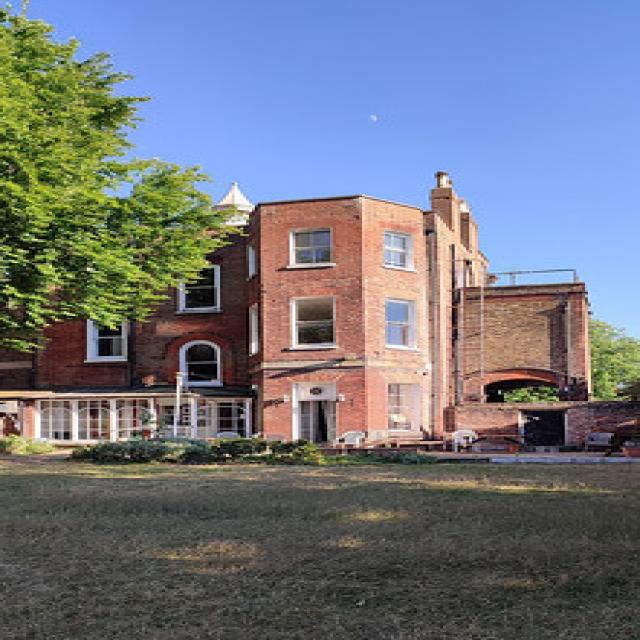Normal_building: (23, 165, 597, 465)
